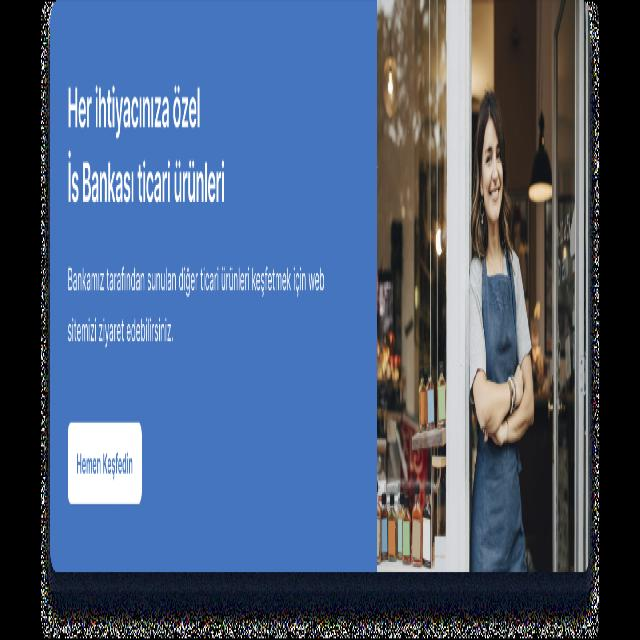QLabel: (68, 261, 325, 304), (68, 154, 226, 212), (68, 81, 200, 136), (67, 313, 171, 347), (74, 448, 134, 479)
VBtn: (67, 421, 142, 509)
VCard: (50, 5, 589, 574)
VContainer: (1, 0, 639, 640)
VImg: (378, 8, 588, 567)
